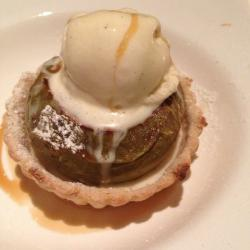apple_pie: (5, 58, 208, 214)
icecream: (55, 5, 183, 107)
